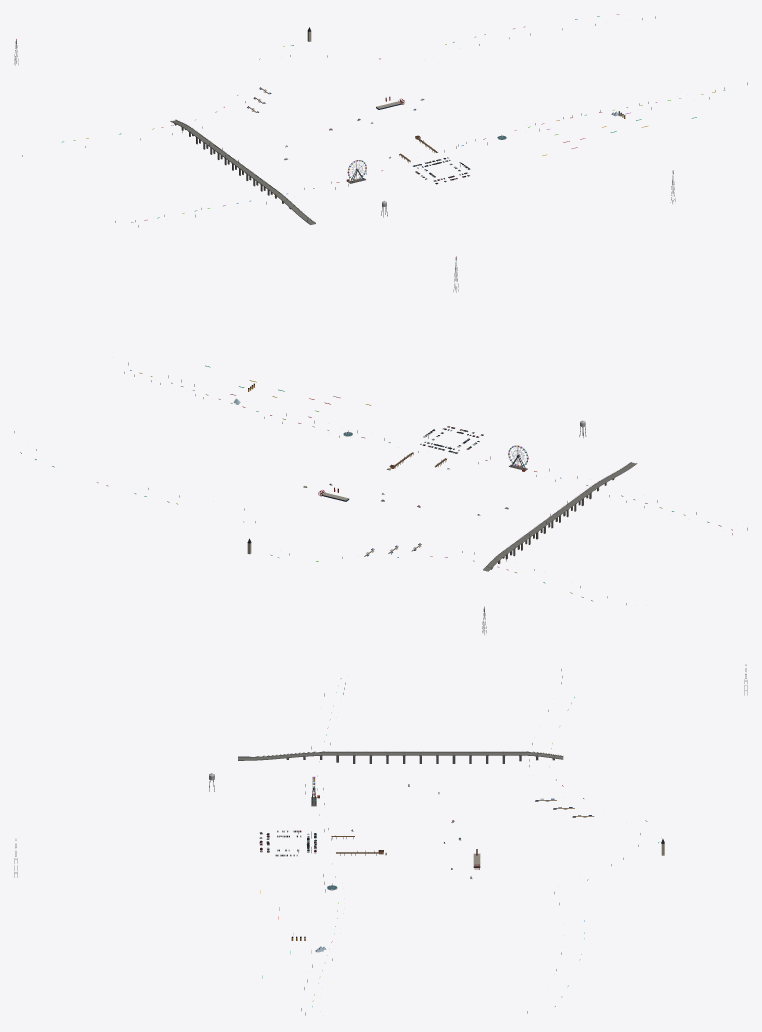
The model's file is Branson_Props.glb.
3 views of the same model, one above another, from view 1: azimuth 30°, elevation 25°; view 2: azimuth 150°, elevation 25°; view 3: azimuth 270°, elevation 25° (orthographic). The views are drawn at different scales.
Parts seen in each view (by area): view 1: BR_Props; view 2: BR_Props; view 3: BR_Props.
Part boxes in pixels (x1,y1,x2,y2): BR_Props: (14, 16, 747, 227); BR_Props: (14, 257, 747, 634); BR_Props: (14, 665, 747, 1015).
Bounding box in the file's own units: 1387 × 137 × 1237.
